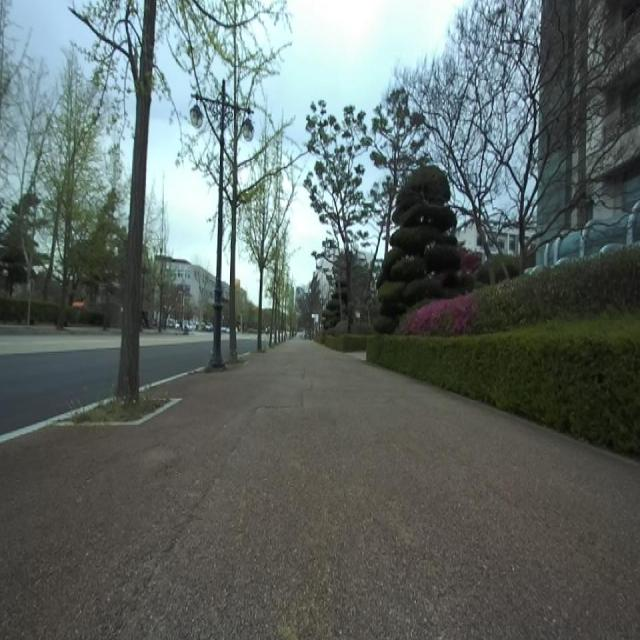sidewalk: (0, 340, 640, 639), (0, 398, 112, 442), (139, 367, 204, 391)
